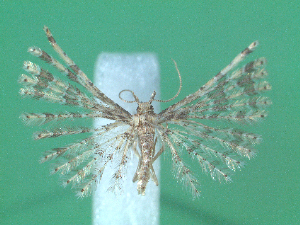Alucitidae: (13, 24, 274, 202)
moth: (15, 26, 276, 204)
